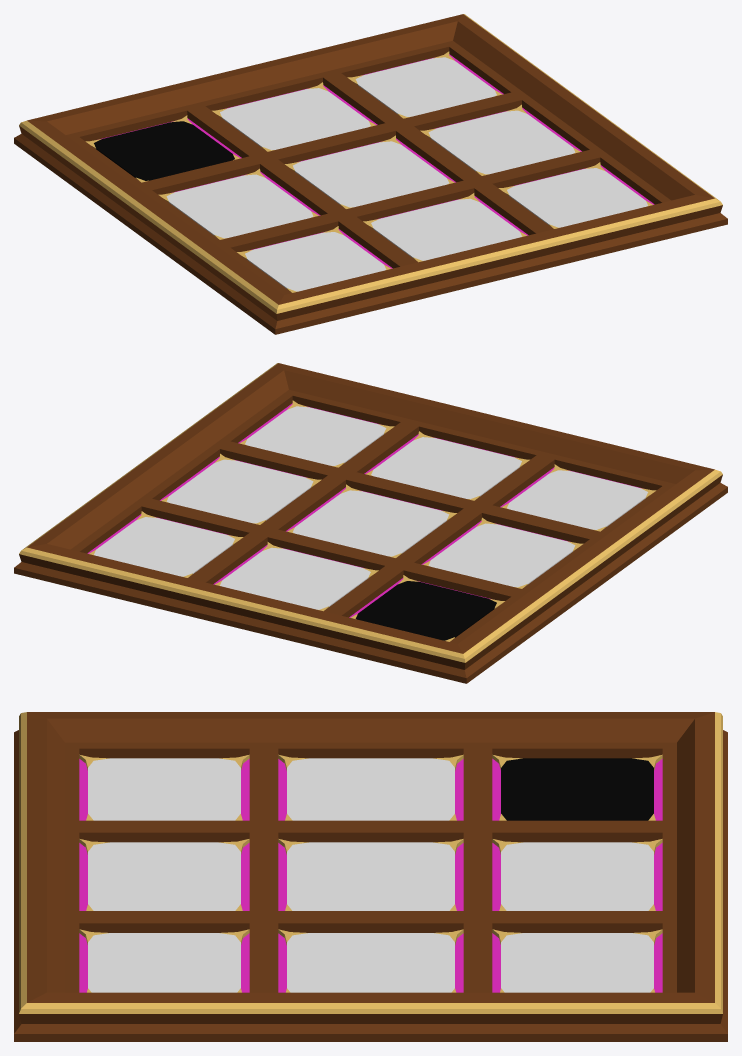
3 views of the same model, one above another, from view 1: azimuth 30°, elevation 25°; view 2: azimuth 150°, elevation 25°; view 3: azimuth 270°, elevation 25° (orthographic). The views are drawn at different scales.
Parts seen in each view (by area): view 1: Grid; view 2: Grid; view 3: Grid.
Boxes of the visible parts, bbox=[...] form: Grid: bbox=[14, 14, 727, 334]; Grid: bbox=[14, 363, 727, 683]; Grid: bbox=[14, 712, 727, 1041].
Bounding box in the file's own units: 2000 × 110 × 2000.
